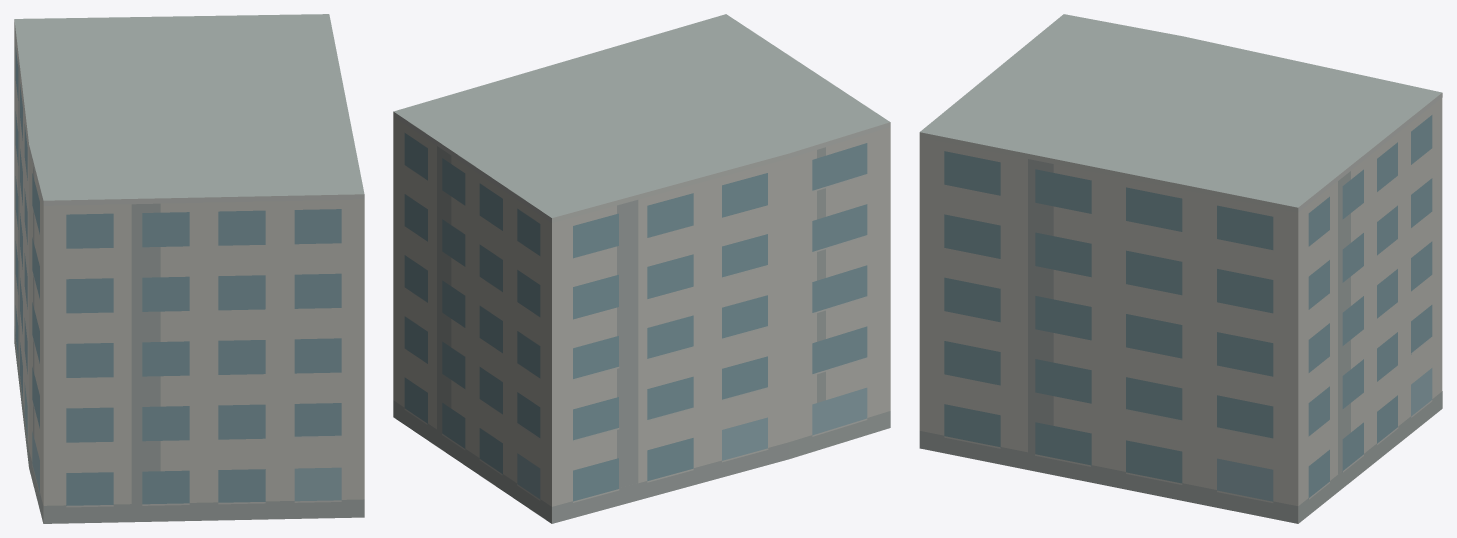
The model's file is survey-upis-32877605.glb.
3 renders of one model, left to right at view 1: azimuth 30°, elevation 25°; view 2: azimuth 150°, elevation 25°; view 3: azimuth 270°, elevation 25°, orthographic. The views are drawn at different scales.
Parts seen in each view (by area): view 1: survey-upis-32877605.tmp; view 2: survey-upis-32877605.tmp; view 3: survey-upis-32877605.tmp.
Part boxes in pixels (x1,y1,x2,y2): survey-upis-32877605.tmp: [14, 14, 364, 523]; survey-upis-32877605.tmp: [393, 14, 890, 523]; survey-upis-32877605.tmp: [919, 14, 1442, 523].
Size of the model in its own units: 19.45 by 14.8 by 22.19.
